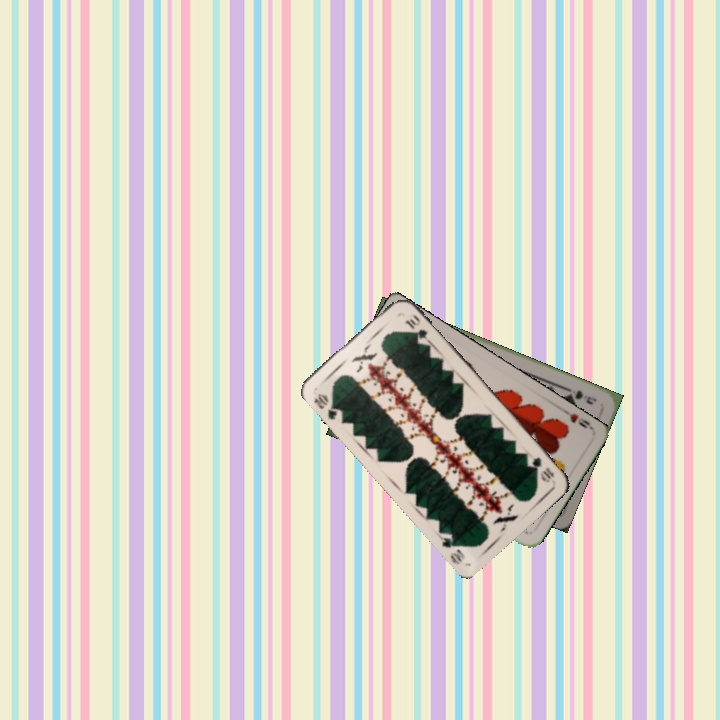G10: (310, 389, 346, 422), (528, 453, 557, 485)
G9: (563, 385, 599, 407)
H9: (558, 404, 595, 432)
